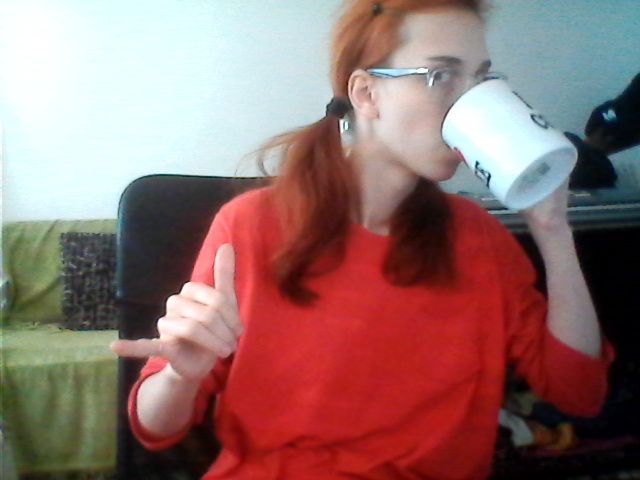ano: (106, 243, 269, 388)
